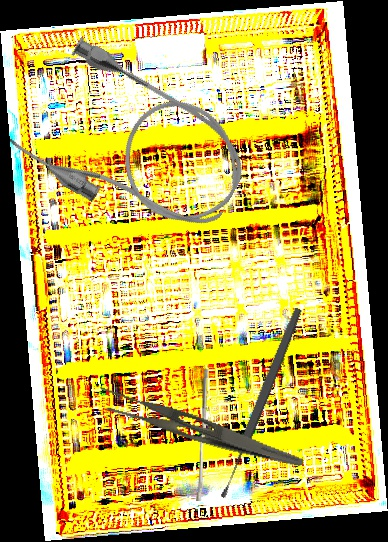Cannula: (3, 31, 264, 260)
Dressing Forceps: (93, 383, 310, 469)
Pusher: (196, 368, 209, 502)
Surgical Spoon: (216, 306, 305, 500)
